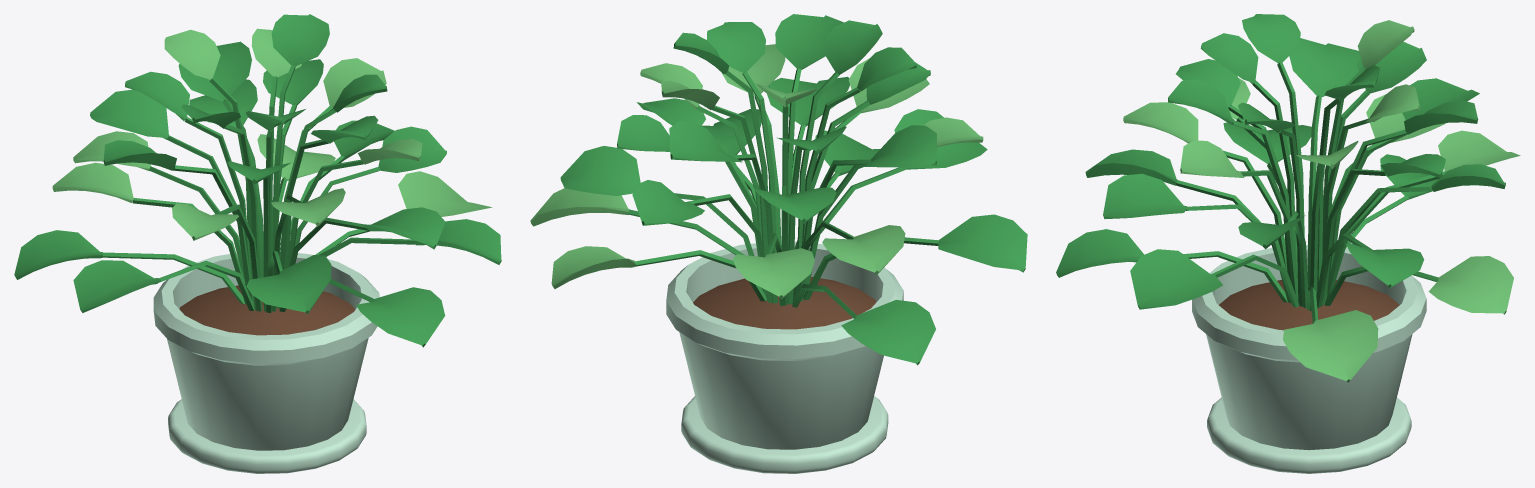
File: plant_small.glb
3 renders of one model, left to right at view 1: azimuth 30°, elevation 25°; view 2: azimuth 150°, elevation 25°; view 3: azimuth 270°, elevation 25°, orthographic. The views are drawn at different scales.
Visible parts, largest first — view 1: leaf.001, pot, leaf_light, soil; view 2: leaf.001, pot, leaf_light, soil; view 3: leaf.001, pot, leaf_light, soil.
Part boxes in pixels (left/top/right/bottom): leaf.001: left=14, top=14, right=501, bottom=347; pot: left=153, top=251, right=379, bottom=473; leaf_light: left=52, top=28, right=492, bottom=240; soil: left=179, top=285, right=355, bottom=335; leaf.001: left=560, top=14, right=1027, bottom=365; pot: left=666, top=241, right=903, bottom=473; leaf_light: left=530, top=44, right=983, bottom=299; soil: left=693, top=277, right=876, bottom=329; leaf.001: left=1056, top=14, right=1505, bottom=323; pot: left=1192, top=245, right=1426, bottom=473; leaf_light: left=1123, top=20, right=1520, bottom=382; soil: left=1219, top=280, right=1399, bottom=330.
Bounding box in the file's own units: 0.3109 × 0.2613 × 0.2817.
